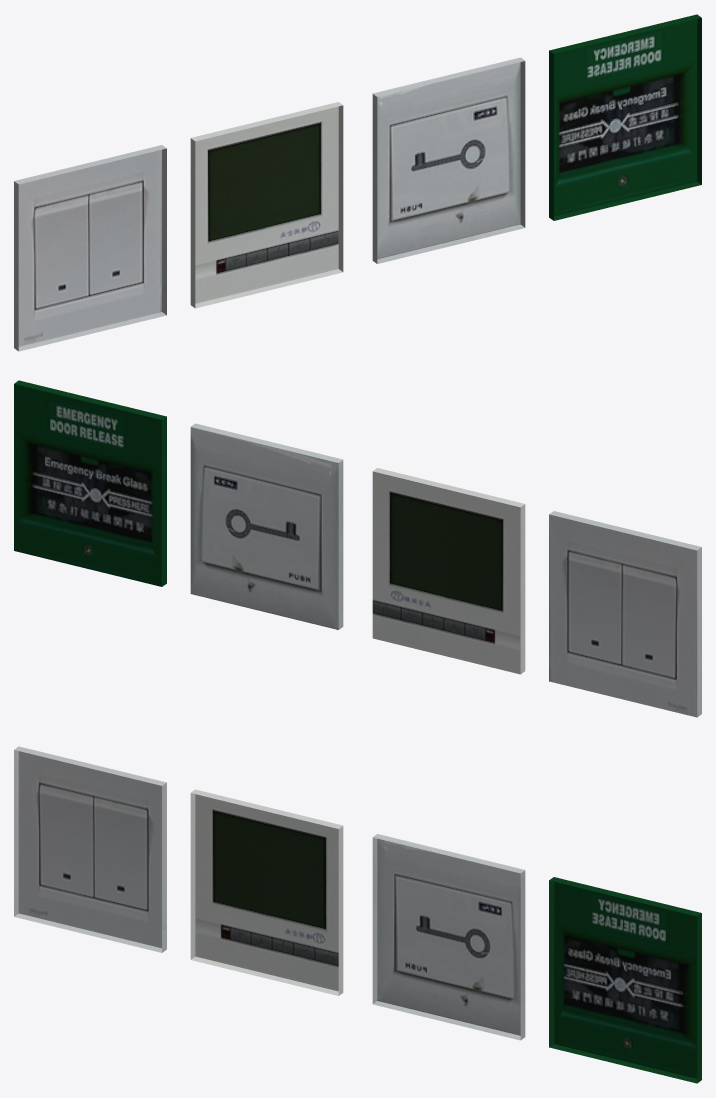
File: 04_KaiGuan.fbx
3 views of the same model, one above another, from view 1: azimuth 30°, elevation 25°; view 2: azimuth 150°, elevation 25°; view 3: azimuth 330°, elevation 25° (orthographic).
Parts seen in each view (by area): view 1: 04_KaiGuan; view 2: 04_KaiGuan; view 3: 04_KaiGuan.
Part boxes in pixels (<box>): 04_KaiGuan: <box>14,14,701,351</box>; 04_KaiGuan: <box>14,380,701,717</box>; 04_KaiGuan: <box>14,746,701,1083</box>.
Bounding box in the file's own units: 351 × 81.95 × 4.25.
